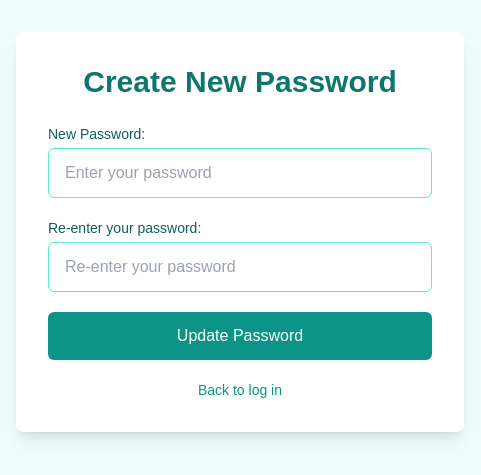
New Password page test › Should not let users submit with invalid password
The image size is (481, 475).
In the password field labelled "New Password:": (240, 173) 48,148 -> 432,198, type "invalidPassword"
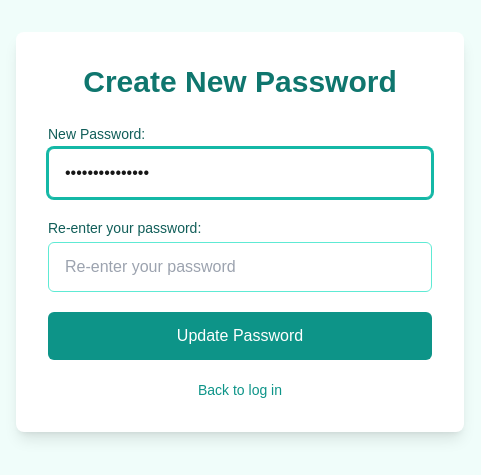
In the password field with id "re-enter-password": (240, 267) 48,242 -> 432,292, type "invalidPassword"
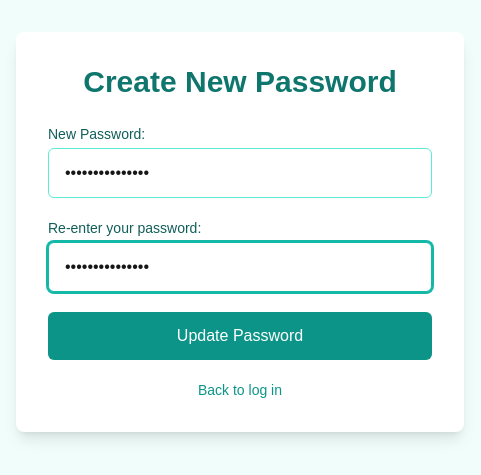
Click the submit button: (240, 336) 48,312 -> 432,360
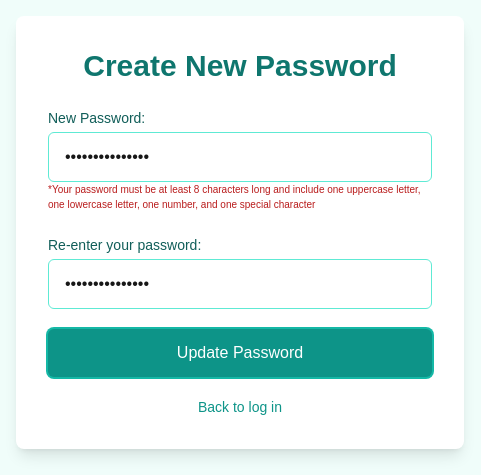
Check: the text with class "error_message" is shown, box 48,182 -> 432,212
Check: the text with class "error_message" shows "*Your password must be at least 8 characters long and include one uppercase letter, one lowercase letter, one number, and one special character", box 48,184 -> 421,210
